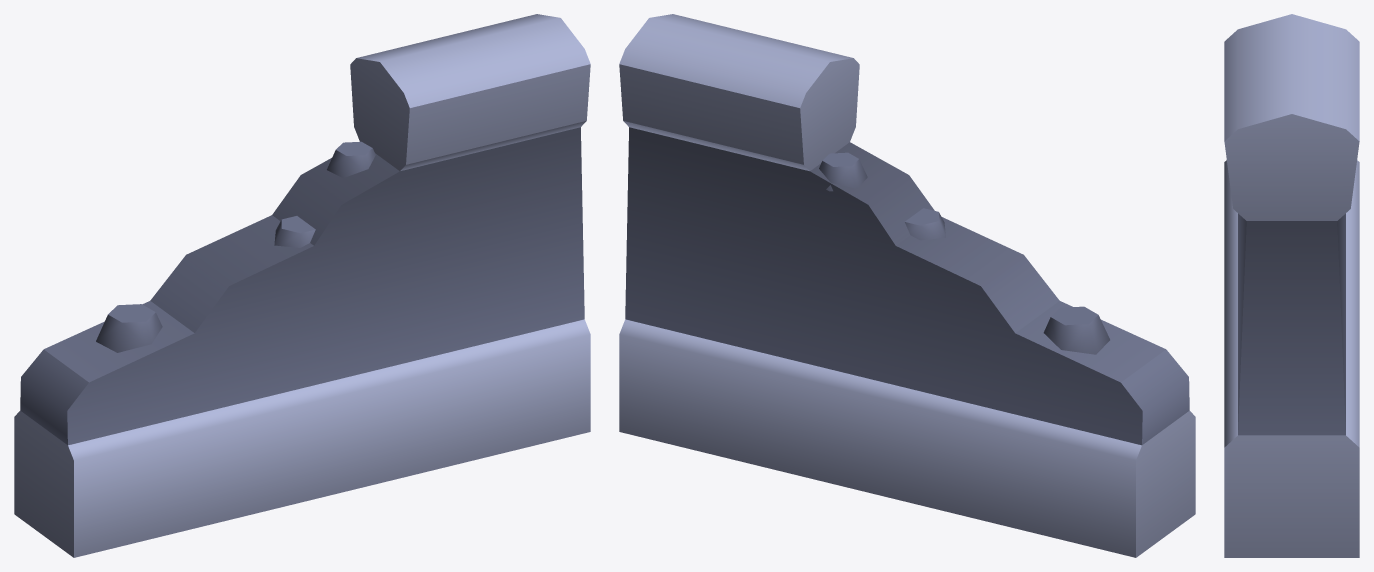
Rendered from stone-wall-damaged.glb.
3 views of the same model, side by side, from view 1: azimuth 30°, elevation 25°; view 2: azimuth 150°, elevation 25°; view 3: azimuth 270°, elevation 25° (orthographic). The views are drawn at different scales.
Visible parts, largest first — view 1: stone-wall-damaged; view 2: stone-wall-damaged; view 3: stone-wall-damaged.
Boxes of the visible parts, x1,y1,x2,y2 form: stone-wall-damaged: [14, 14, 590, 557]; stone-wall-damaged: [619, 14, 1195, 557]; stone-wall-damaged: [1224, 14, 1359, 557].
Size of the model in its own units: 1 by 0.725 by 0.2.
Materials: 1 (1 with a texture image).
